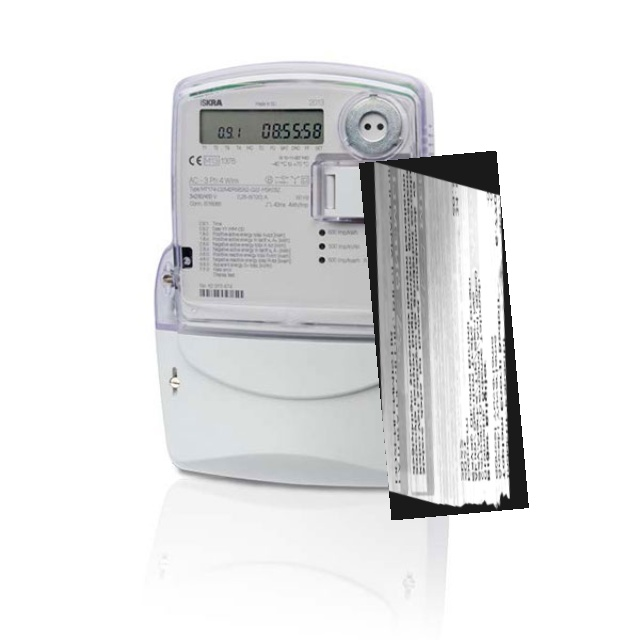electricity-bill: (359, 151, 529, 520)
